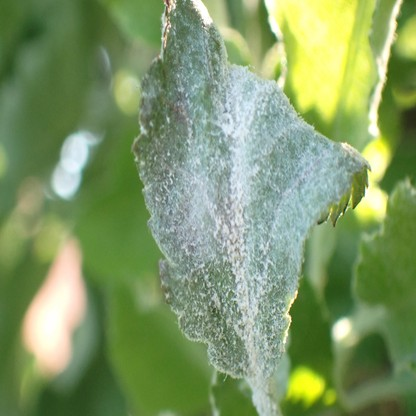powder: (131, 2, 371, 416)
